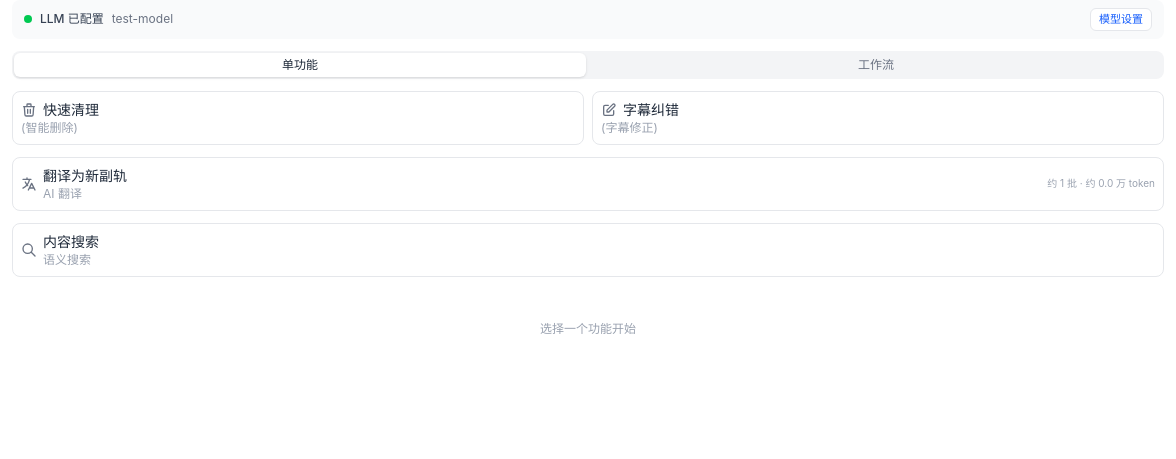
AIAssistantPanel -- translation card (v3.0.4 M1-6) › defaults the dialog selection to the remembered settings language
This screenshot has width=1176, height=459.
Click the button with test id "translation-card" at (85, 175), box top-left (12, 156), bottom-right (1164, 210)
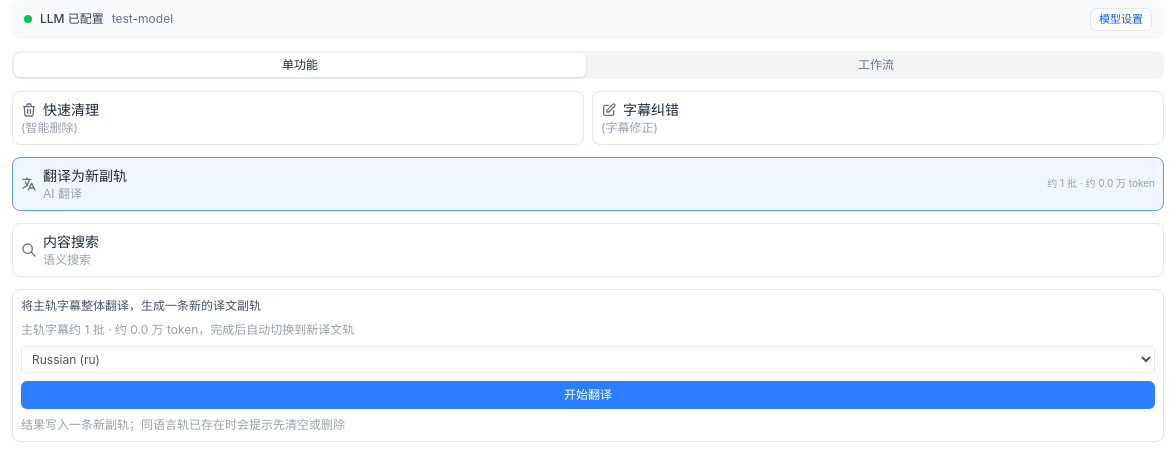
Expected: the dropdown with test id "translation-language" shows "Russian (ru)", top-left (21, 346), bottom-right (1155, 372)
